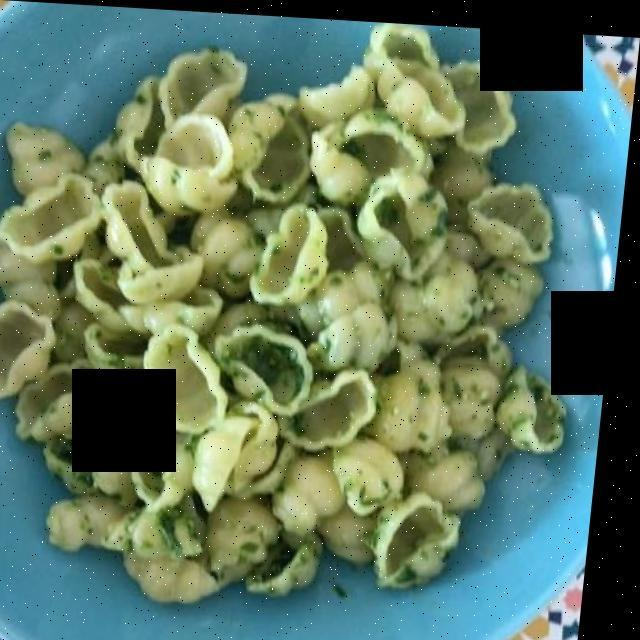pasta: (0, 38, 574, 584)
